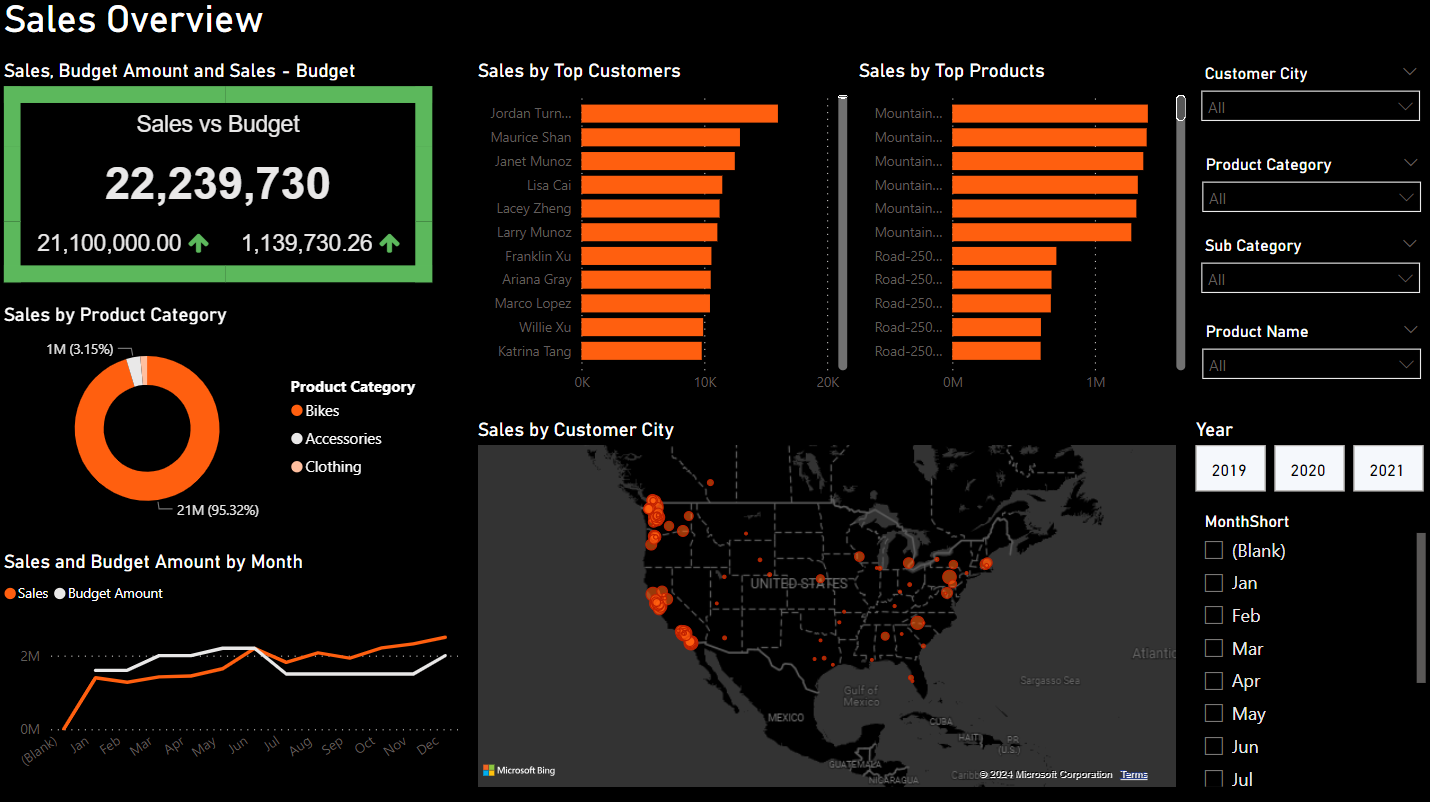

The page's visual inventory and layout, read from the dashboard file:
{"tool":"powerbi","page":{"name":"Sales Overview","canvas":[1280,720],"ordinal":0},"visuals":[{"type":"textbox","title":"Sales Overview ","box":[0,0,1280,46.1],"z":0},{"type":"slicer","fields":{"Values":["DIM_Customer.Customer City"]},"box":[1056.9,55,213.7,80.7],"z":1000},{"type":"slicer","fields":{"Values":["DIM_Product.Product Category"]},"box":[1057.8,135.7,213.7,71.8],"z":2000},{"type":"slicer","fields":{"Values":["DIM_Product.Sub Category"]},"box":[1056.9,207.5,213.7,74.5],"z":3000},{"type":"slicer","fields":{"Values":["DIM_Product.Product Name"]},"box":[1057.8,283.7,213.7,76.3],"z":4000},{"type":"BBED0A4D4D8D44CE93CF2DAFADEE466C","fields":{"actual":["Key Measures.Sales"],"target1":["Key Measures.Budget Amount"],"target2":["Key Measures.Sales - Budget"]},"box":[0,54.6,390.4,203.3],"z":5000},{"type":"donutChart","fields":{"Y":["Key Measures.Sales"],"Category":["DIM_Product.Product Category"]},"box":[0,271.3,390.4,203.3],"z":6000},{"type":"clusteredBarChart","title":"Sales by Top Customers","fields":{"Category":["DIM_Customer.Full Name"],"Y":["FACT_InternetSales.SalesAmount"]},"box":[420.3,55,337.8,305],"z":7000},{"type":"lineChart","title":"Sales and Budget Amount by Month","fields":{"Y":["Key Measures.Sales","Key Measures.Budget Amount"],"Category":["DIM_Calender.MonthShort"]},"box":[0,490.7,412.8,214.9],"z":8000},{"type":"advancedSlicerVisual","fields":{"Values":["DIM_Calender.Year"]},"box":[1056.9,373.3,213.7,70],"z":9000},{"type":"slicer","title":"Month","fields":{"Values":["DIM_Calender.MonthShort"]},"box":[1056.9,452.2,213.7,252.7],"z":10000},{"type":"clusteredBarChart","title":"Sales by Top Products","fields":{"Y":["Key Measures.Sales"],"Category":["DIM_Product.Product Name"]},"box":[758.1,55,299.7,305],"z":11000},{"type":"map","fields":{"Size":["Key Measures.Sales"],"Category":["DIM_Customer.Customer City"]},"box":[420.3,373.3,628.7,331.6],"z":12000}]}

Visuals, with their boxes in screenshot pixels (x1, y1, x2, y2), scaled from the page's 1280x720 canvas onto the 1430x802 screenshot:
"Sales Overview " textbox: x1=0, y1=0, x2=1429, y2=51
slicer - DIM_Customer.Customer City: x1=1181, y1=61, x2=1419, y2=151
slicer - DIM_Product.Product Category: x1=1182, y1=151, x2=1421, y2=231
slicer - DIM_Product.Sub Category: x1=1181, y1=231, x2=1419, y2=314
slicer - DIM_Product.Product Name: x1=1182, y1=316, x2=1421, y2=401
BBED0A4D4D8D44CE93CF2DAFADEE466C - Key Measures.Sales x Key Measures.Budget Amount: x1=0, y1=61, x2=436, y2=287
donutChart - Key Measures.Sales x DIM_Product.Product Category: x1=0, y1=302, x2=436, y2=529
"Sales by Top Customers" clusteredBarChart: x1=470, y1=61, x2=847, y2=401
"Sales and Budget Amount by Month" lineChart: x1=0, y1=547, x2=461, y2=786
advancedSlicerVisual - DIM_Calender.Year: x1=1181, y1=416, x2=1419, y2=494
"Month" slicer: x1=1181, y1=504, x2=1419, y2=785
"Sales by Top Products" clusteredBarChart: x1=847, y1=61, x2=1182, y2=401
map - Key Measures.Sales x DIM_Customer.Customer City: x1=470, y1=416, x2=1172, y2=785
